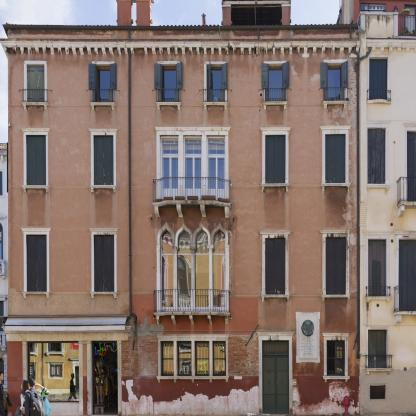Balcony: (152, 176, 231, 207), (153, 289, 231, 316)
Blind: (26, 235, 47, 292), (326, 238, 346, 295), (94, 235, 114, 292), (266, 238, 286, 294), (26, 135, 46, 185), (94, 135, 114, 185), (326, 134, 346, 183), (266, 135, 286, 183), (27, 64, 45, 102), (261, 63, 269, 89), (320, 62, 328, 88), (341, 60, 348, 88), (110, 63, 117, 90), (154, 63, 161, 90), (176, 62, 183, 89), (282, 61, 289, 88), (89, 64, 96, 90), (222, 62, 228, 90), (209, 140, 225, 145), (162, 141, 178, 145), (186, 140, 202, 144), (209, 61, 211, 89)
Building Outline: (0, 0, 362, 416)
Cornice: (1, 325, 133, 333), (155, 126, 232, 131), (156, 334, 230, 338), (256, 331, 295, 336), (88, 227, 119, 233), (319, 125, 352, 130), (259, 230, 292, 235), (319, 229, 351, 234), (88, 128, 119, 133), (21, 227, 52, 232), (321, 333, 350, 338), (259, 127, 292, 131), (20, 128, 51, 132)
Deco: (296, 312, 321, 363)
Door: (91, 341, 118, 415), (262, 355, 289, 414), (183, 156, 202, 200), (207, 156, 225, 200), (160, 156, 178, 200), (178, 255, 192, 307), (195, 255, 209, 307)
Facade: (8, 29, 360, 416)
Floor: (8, 207, 359, 318), (8, 120, 359, 207)
Floor Slab: (8, 200, 359, 207), (8, 311, 359, 318), (8, 114, 359, 120)
Ground Floor: (8, 318, 359, 416)
Molding: (3, 47, 360, 55)
Shop: (29, 343, 79, 401)
Sill: (156, 376, 229, 382), (320, 183, 351, 192), (261, 183, 290, 192), (260, 294, 291, 302), (202, 101, 229, 110), (155, 102, 182, 111), (90, 102, 116, 111), (262, 101, 288, 110), (89, 185, 118, 193), (21, 185, 50, 193), (90, 291, 118, 299), (321, 295, 351, 302), (22, 102, 48, 110), (322, 376, 350, 383), (323, 101, 348, 108), (22, 292, 51, 298)
Top Floor: (8, 30, 359, 120)
Window: (26, 235, 47, 292), (326, 238, 346, 295), (94, 235, 114, 292), (266, 238, 286, 294), (26, 135, 46, 185), (94, 135, 114, 185), (326, 134, 346, 183), (266, 135, 286, 183), (206, 64, 225, 102), (326, 63, 345, 101), (27, 64, 45, 102), (266, 64, 284, 101), (327, 340, 345, 376), (160, 64, 177, 102), (213, 255, 225, 307), (95, 64, 111, 102), (162, 255, 173, 307), (212, 341, 226, 376), (160, 341, 174, 376), (177, 341, 191, 376), (195, 341, 209, 376), (262, 340, 289, 355), (183, 135, 202, 156), (207, 135, 225, 156), (160, 135, 178, 156), (160, 228, 173, 254), (177, 229, 191, 253), (195, 229, 209, 253), (213, 229, 225, 253)
dont: (14, 375, 52, 416), (0, 371, 13, 416), (343, 396, 350, 416), (246, 413, 270, 416)
